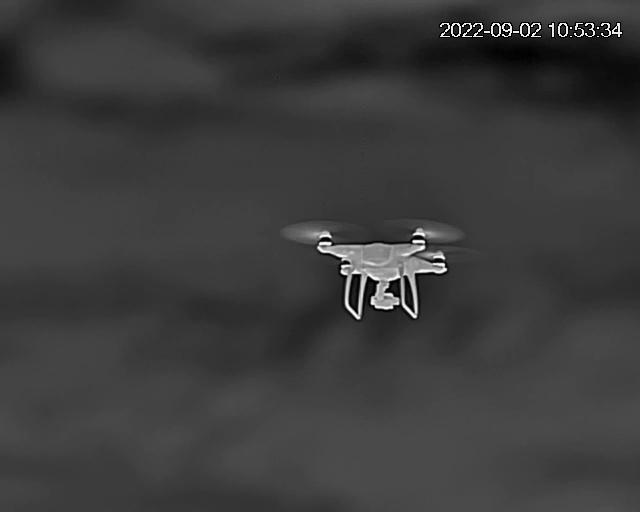DJI-Phantom: (278, 212, 488, 319)
